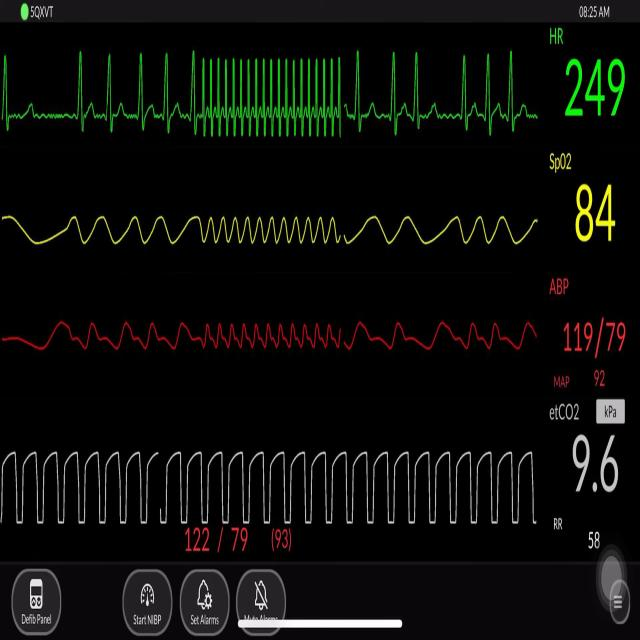danger: (206, 44, 345, 142)
